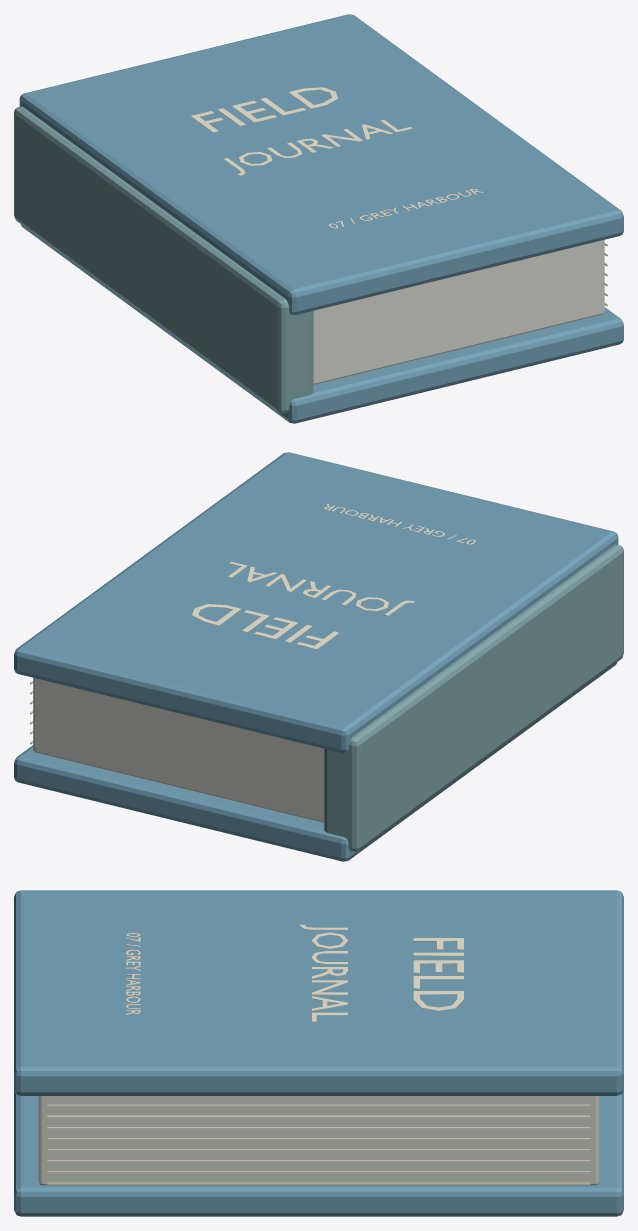
Rendered from loot_book.glb.
The picture shows the model from 3 angles, top to bottom: view 1: azimuth 30°, elevation 25°; view 2: azimuth 150°, elevation 25°; view 3: azimuth 270°, elevation 25°; orthographic projection. The views are drawn at different scales.
Parts seen in each view (by area): view 1: loot_book; view 2: loot_book; view 3: loot_book.
Part boxes in pixels (box(x1,y1,x2,y2)): loot_book: box(14, 14, 623, 423); loot_book: box(14, 452, 623, 861); loot_book: box(14, 890, 623, 1216).
Size of the model in its own units: 0.126 by 0.0486 by 0.174.
